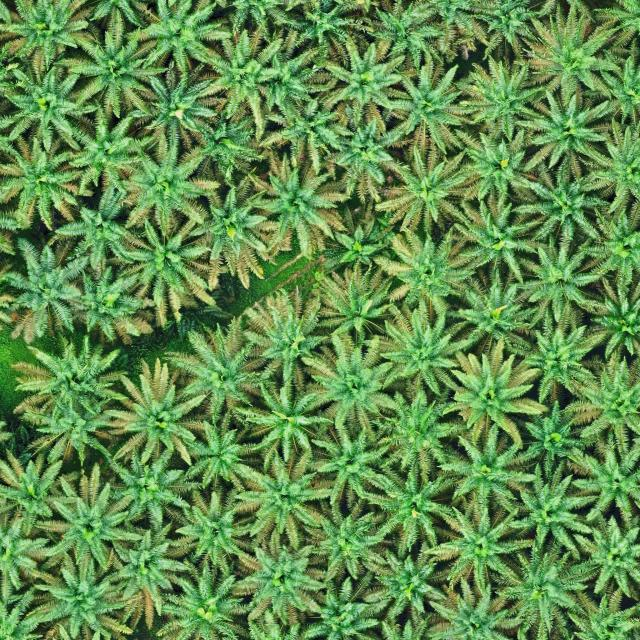Tree: (160, 312, 280, 430), (108, 207, 213, 333), (246, 143, 355, 260), (433, 345, 545, 454), (106, 133, 225, 233), (516, 0, 628, 106), (107, 358, 211, 471), (6, 330, 132, 422), (494, 539, 608, 640), (362, 299, 472, 403), (98, 517, 199, 629), (22, 550, 147, 640), (33, 467, 144, 568), (181, 168, 276, 284), (0, 233, 97, 346), (200, 15, 287, 135), (297, 324, 401, 424), (428, 500, 532, 600), (370, 144, 476, 242), (227, 452, 331, 550), (239, 280, 332, 388), (1, 59, 101, 159), (228, 378, 336, 470), (371, 222, 481, 312), (57, 25, 162, 119), (96, 447, 206, 536), (230, 538, 336, 630), (116, 65, 219, 159), (494, 469, 598, 562), (371, 384, 469, 482), (0, 440, 93, 543), (46, 176, 142, 274), (66, 258, 170, 348), (519, 300, 609, 404), (62, 93, 158, 190), (445, 193, 542, 289), (303, 489, 397, 588), (356, 536, 452, 632), (434, 425, 538, 513), (369, 464, 465, 559), (119, 0, 235, 78), (150, 550, 249, 640), (384, 62, 477, 155), (306, 413, 397, 507), (455, 266, 547, 358), (518, 87, 610, 179), (167, 484, 261, 574), (261, 89, 359, 175), (0, 135, 83, 234), (510, 238, 603, 326), (321, 30, 408, 124), (565, 351, 640, 460), (174, 408, 264, 494), (329, 107, 405, 204), (573, 105, 640, 215), (22, 397, 118, 472), (459, 56, 546, 138), (514, 166, 604, 245), (315, 265, 403, 342), (358, 0, 451, 72), (518, 397, 600, 476), (577, 190, 640, 292), (569, 510, 640, 598), (569, 435, 640, 523), (418, 576, 514, 640), (0, 0, 91, 67), (461, 129, 534, 212), (187, 106, 267, 179), (299, 572, 384, 640), (252, 37, 328, 110), (578, 275, 640, 363), (561, 580, 640, 640), (321, 212, 396, 274)
